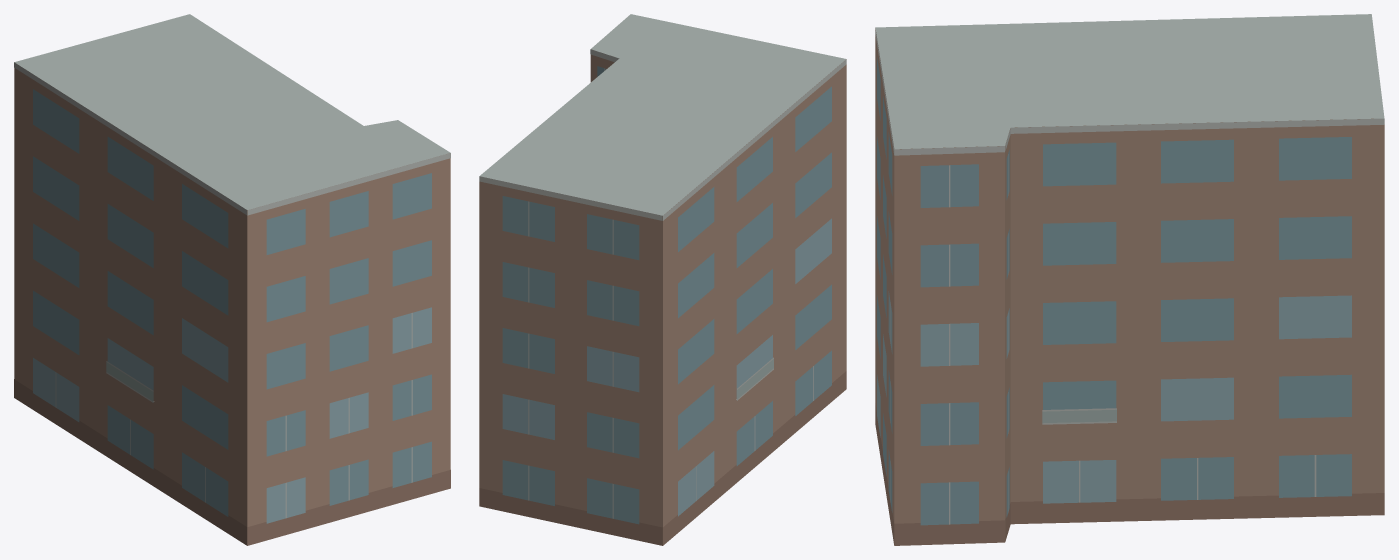
Rendered from survey-upis-32764597.glb.
The picture shows the model from 3 angles, left to right: view 1: azimuth 30°, elevation 25°; view 2: azimuth 150°, elevation 25°; view 3: azimuth 270°, elevation 25°; orthographic projection. The views are drawn at different scales.
Visible parts, largest first — view 1: survey-upis-32764597.tmp; view 2: survey-upis-32764597.tmp; view 3: survey-upis-32764597.tmp.
Boxes of the visible parts, x1,y1,x2,y2 form: survey-upis-32764597.tmp: (14, 14, 450, 545); survey-upis-32764597.tmp: (479, 14, 846, 545); survey-upis-32764597.tmp: (875, 14, 1384, 545).
Size of the model in its own units: 11.17 by 15.25 by 17.75.
